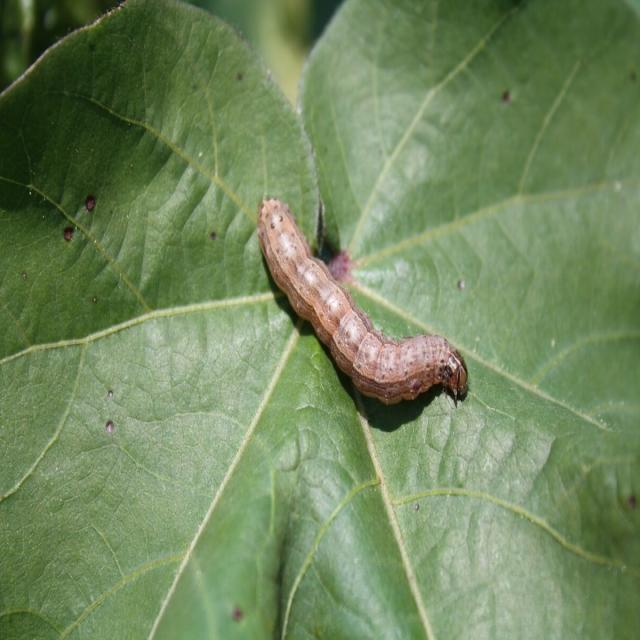armyworm: (256, 194, 468, 407)
